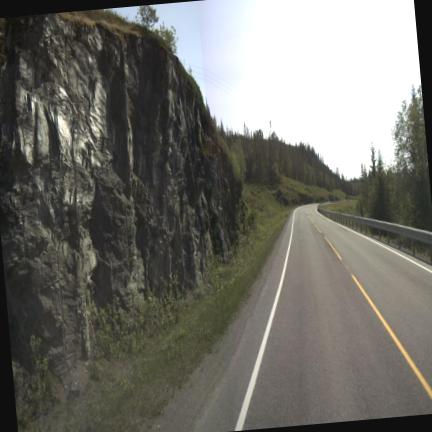Road: (151, 205, 431, 431)
